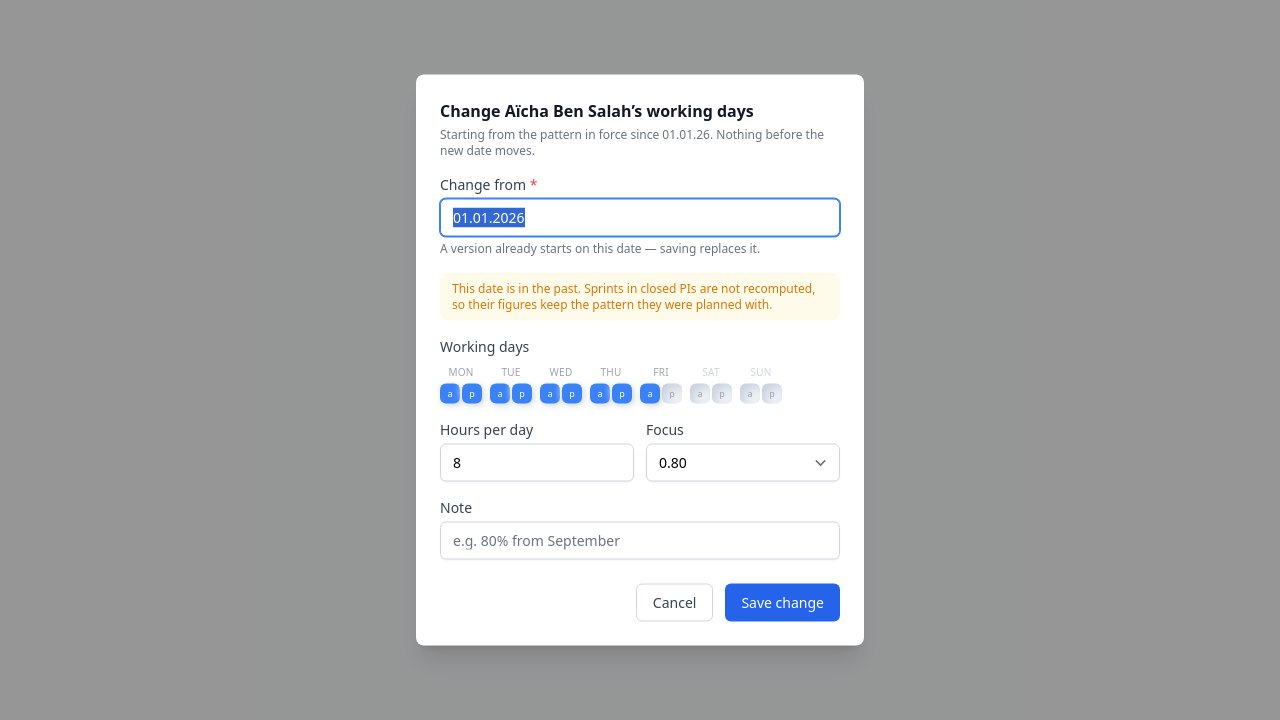
Test: ChangePatternModal › says the version moved rather than "try again" when the write is stale
What coordinates should you click on to do the following:
click the button "Save change"
I would click on:
 (783, 602)
Its box is [725,584,840,622].
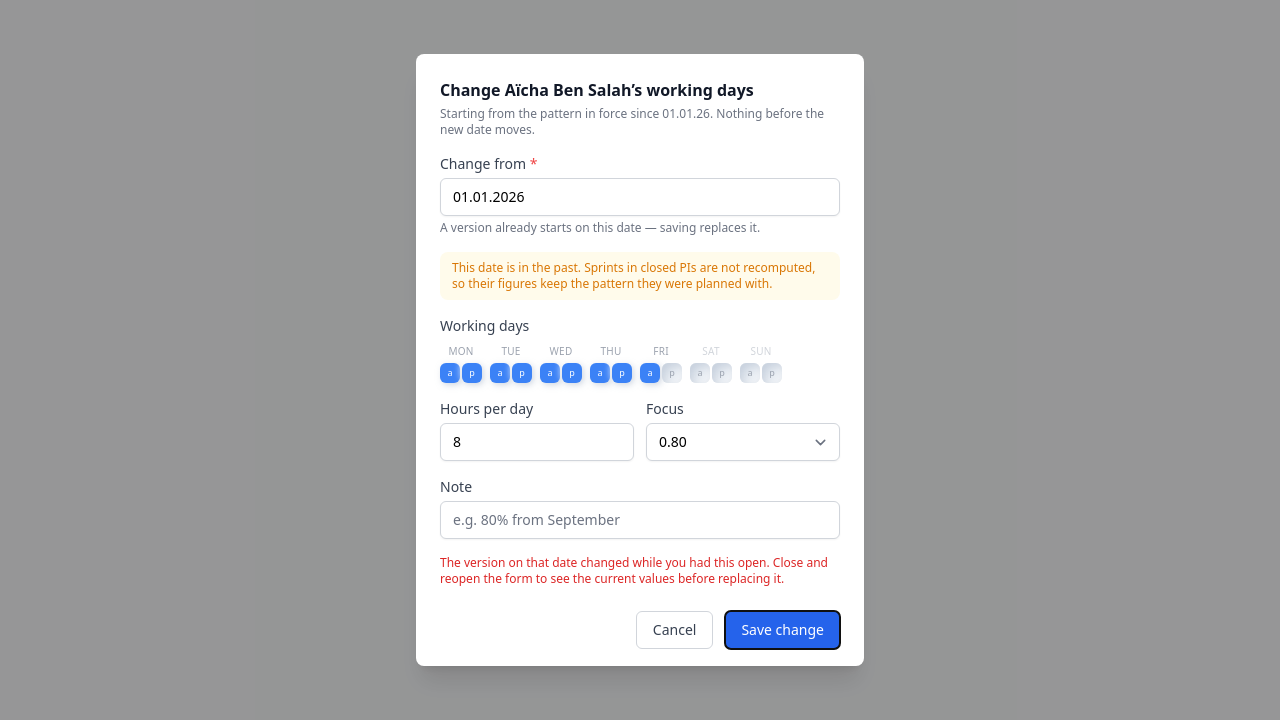
Expected: the text "changed while you had this open" is shown, [440,554,828,587]
